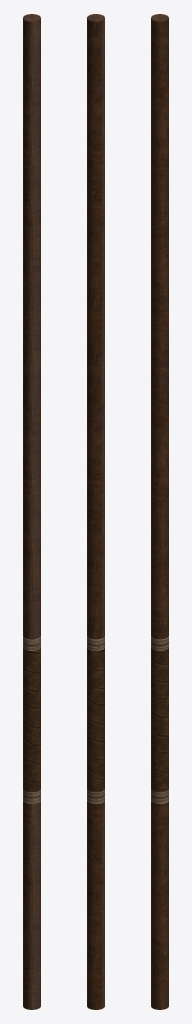
File: dunland_caerdh_spear_handle_b.fbx
3 renders of one model, left to right at view 1: azimuth 90°, elevation 25°; view 2: azimuth 150°, elevation 25°; view 3: azimuth 270°, elevation 25°, orthographic.
Visible parts, largest first — view 1: dunland_caerdh_spear_handle_b; view 2: dunland_caerdh_spear_handle_b; view 3: dunland_caerdh_spear_handle_b.
Boxes of the visible parts, bbox=[...] form: dunland_caerdh_spear_handle_b: bbox=[23, 14, 40, 1009]; dunland_caerdh_spear_handle_b: bbox=[87, 14, 104, 1009]; dunland_caerdh_spear_handle_b: bbox=[151, 14, 168, 1009].
Size of the model in its own units: 0.04 by 0.04 by 2.4.
Materials: 1 (1 with a texture image).
